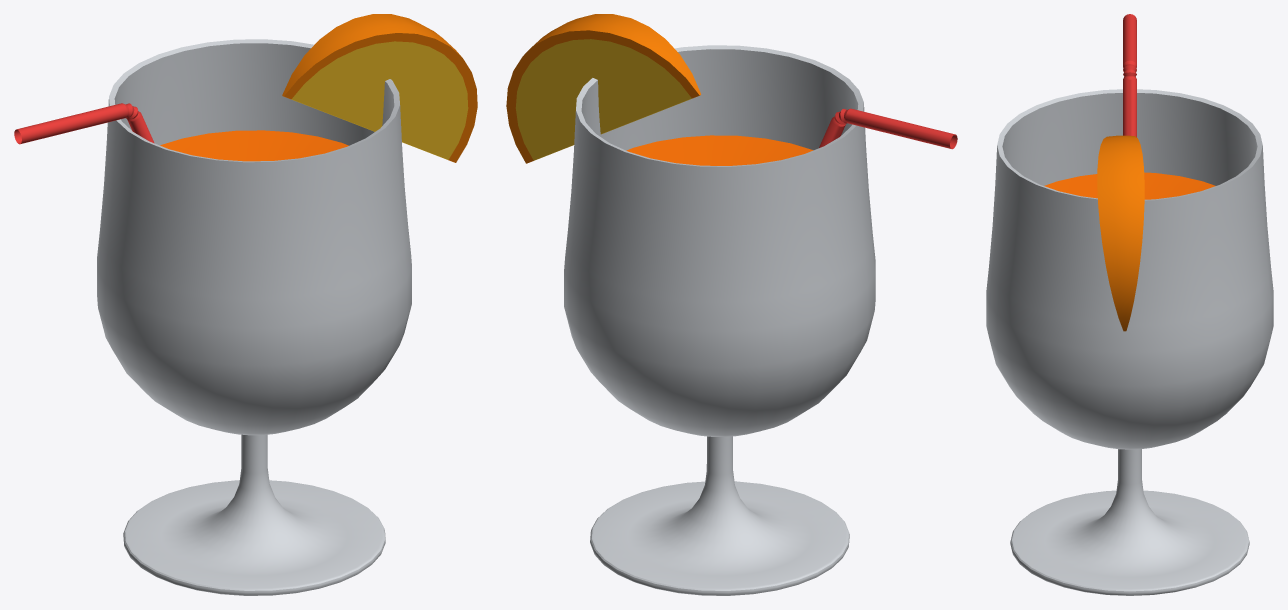
Rendered from tropical_drink.fbx.
The picture shows the model from 3 angles, left to right: view 1: azimuth 30°, elevation 25°; view 2: azimuth 150°, elevation 25°; view 3: azimuth 270°, elevation 25°; orthographic projection. The views are drawn at different scales.
Parts seen in each view (by area): view 1: Circle.2279; view 2: Circle.2279; view 3: Circle.2279.
Part boxes in pixels (x1,y1,x2,y2): Circle.2279: [14, 14, 477, 595]; Circle.2279: [506, 14, 957, 595]; Circle.2279: [986, 14, 1273, 595].
Bounding box in the file's own units: 204 × 215 × 124.
Materials: 2 (1 with a texture image).
